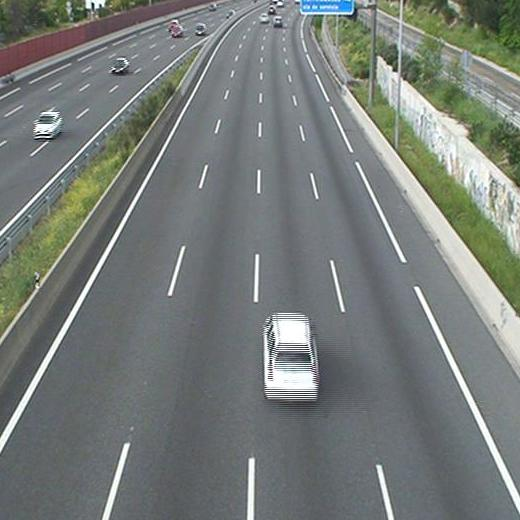car: (263, 314, 318, 398), (259, 13, 269, 24), (273, 16, 282, 26)
